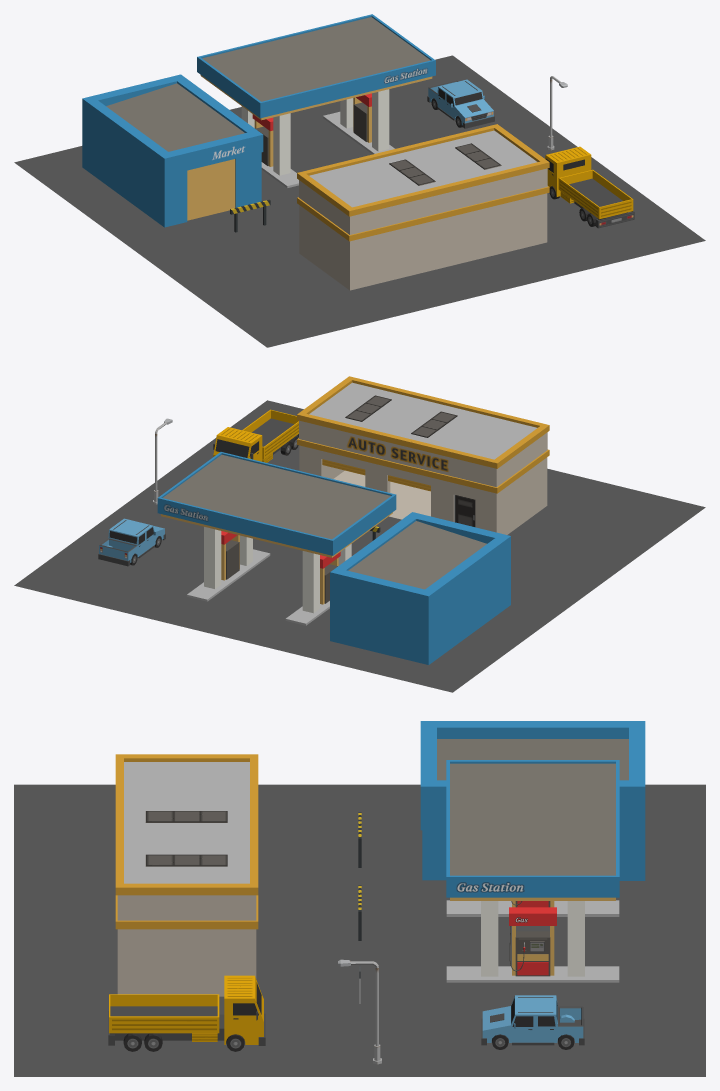
File: remix-commercial-services.glb
The picture shows the model from 3 angles, top to bottom: view 1: azimuth 30°, elevation 25°; view 2: azimuth 150°, elevation 25°; view 3: azimuth 270°, elevation 25°; orthographic projection. The views are drawn at different scales.
Visible parts, largest first — view 1: Road Tile_Plane.003, Building_Gas Station_Cube.019, Building_Auto Service_Cube.001, Vehicle_Truck_Cube.061, Vehicle_Pick up Truck_Cube.095; view 2: Road Tile_Plane.003, Building_Gas Station_Cube.019, Building_Auto Service_Cube.001, Vehicle_Truck_Cube.061, Vehicle_Pick up Truck_Cube.095; view 3: Road Tile_Plane.003, Building_Gas Station_Cube.019, Building_Auto Service_Cube.001, Vehicle_Truck_Cube.061, Vehicle_Pick up Truck_Cube.095, Props_Street Light_Cube.044.
Boxes of the visible parts, x1,y1,x2,y2 form: Road Tile_Plane.003: (14, 55, 705, 347); Building_Gas Station_Cube.019: (82, 14, 435, 227); Building_Auto Service_Cube.001: (297, 124, 549, 290); Vehicle_Truck_Cube.061: (545, 146, 634, 228); Vehicle_Pick up Truck_Cube.095: (427, 79, 494, 128); Road Tile_Plane.003: (14, 400, 705, 692); Building_Gas Station_Cube.019: (157, 452, 510, 664); Building_Auto Service_Cube.001: (297, 376, 549, 534); Vehicle_Truck_Cube.061: (213, 409, 298, 462); Vehicle_Pick up Truck_Cube.095: (98, 518, 165, 566); Road Tile_Plane.003: (14, 784, 705, 1076); Building_Gas Station_Cube.019: (420, 721, 645, 982); Building_Auto Service_Cube.001: (115, 754, 258, 996); Vehicle_Truck_Cube.061: (108, 975, 265, 1051); Vehicle_Pick up Truck_Cube.095: (481, 995, 584, 1049); Props_Street Light_Cube.044: (338, 959, 381, 1064).
Bounding box in the file's own units: 40 × 7.99 × 40.
Materials: 7 (7 with a texture image).
